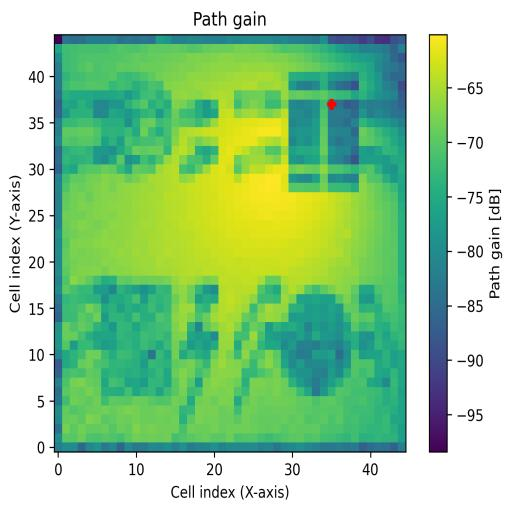Concrete: (289, 70, 360, 192)
Glass: (108, 74, 172, 174)
Metal: (282, 294, 351, 397)
Wood: (102, 282, 171, 396)
